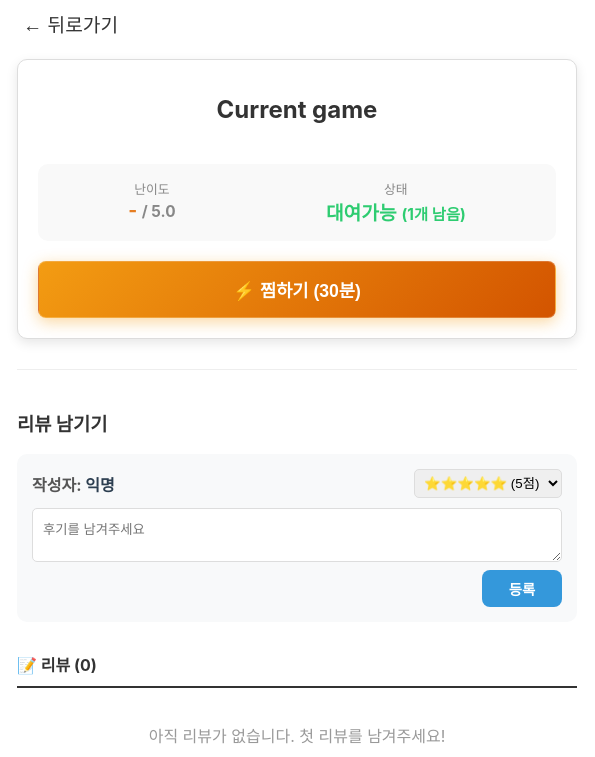
keeps a successful review insertion successful when the list refresh fails
This screenshot has width=595, height=757.
Expected: the text "아직 리뷰가 없습니다. 첫 리뷰를 남겨주세요!" is shown, x1=149 y1=726 x2=445 y2=746
Type "Nice game" into the text box with placeholder "후기를 남겨주세요" at (297, 535), box x1=32 y1=508 x2=562 y2=562
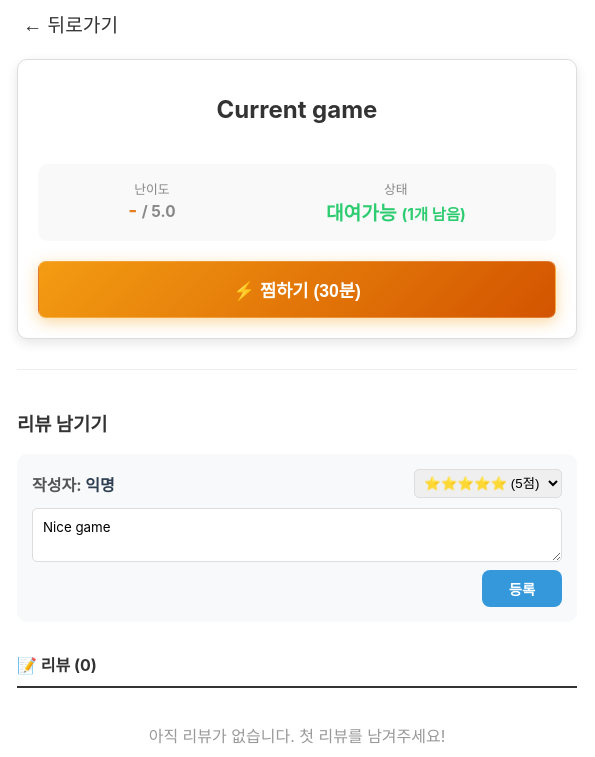
Click the button "등록" at (522, 589), box x1=482 y1=570 x2=562 y2=607
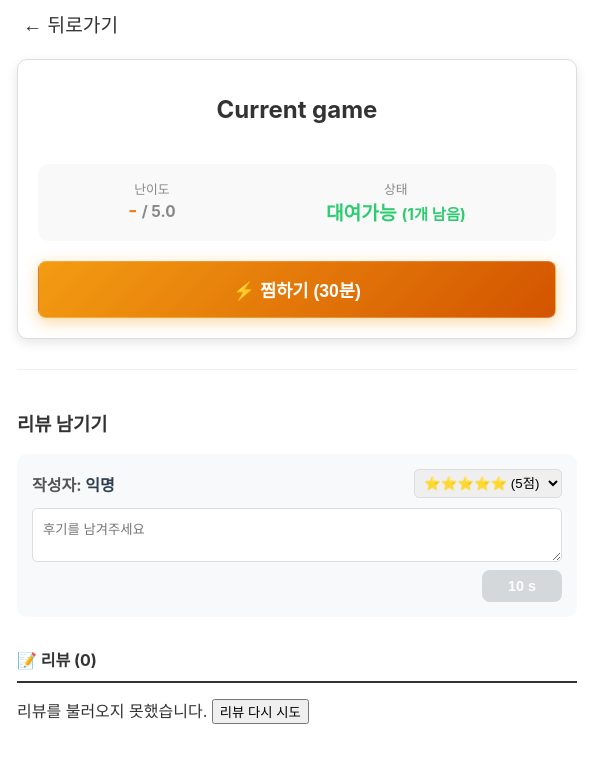
Now the button "리뷰 다시 시도" is shown, box x1=212 y1=699 x2=309 y2=724
Now the text box with placeholder "후기를 남겨주세요" is empty, box x1=32 y1=508 x2=562 y2=562
